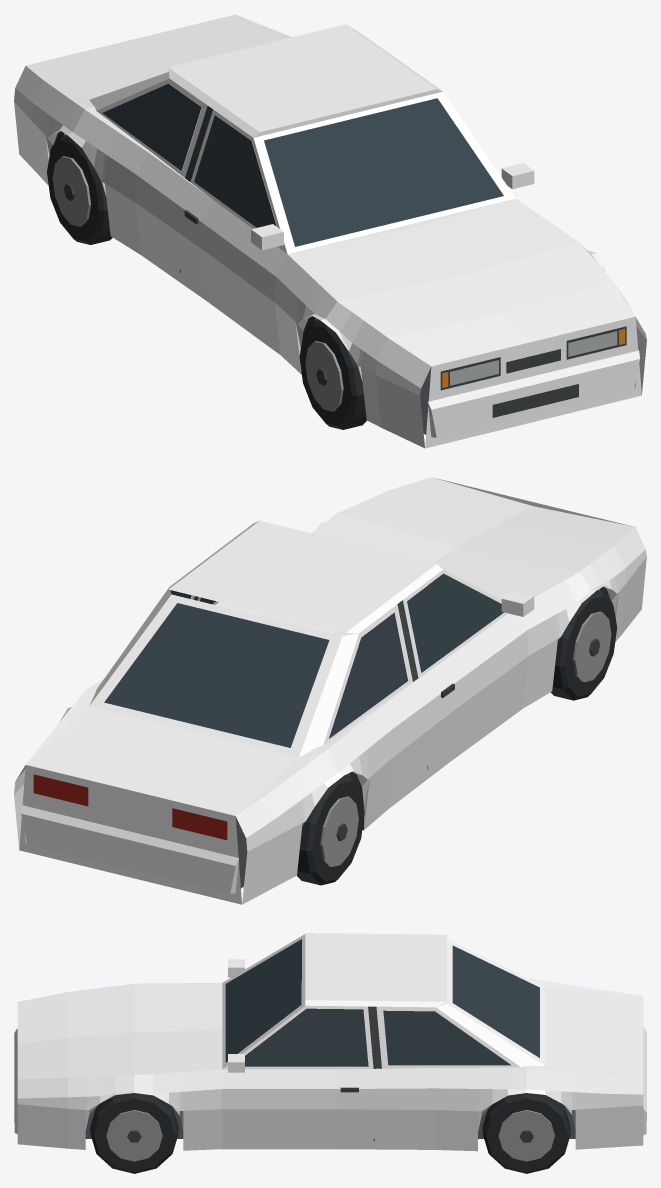
File: hayase_hibari_gts_98.glb
3 renders of one model, top to bottom at view 1: azimuth 30°, elevation 25°; view 2: azimuth 150°, elevation 25°; view 3: azimuth 270°, elevation 25°, orthographic. The views are drawn at different scales.
Visible parts, largest first — view 1: hayase_hibari_gts_98; view 2: hayase_hibari_gts_98; view 3: hayase_hibari_gts_98.
Boxes of the visible parts, x1=… form: hayase_hibari_gts_98: x1=14, y1=14, x2=646, y2=448; hayase_hibari_gts_98: x1=14, y1=477, x2=646, y2=904; hayase_hibari_gts_98: x1=14, y1=933, x2=646, y2=1173.
Bounding box in the file's own units: 1.76 × 1.24 × 4.5.
8 materials, 1 textured.
